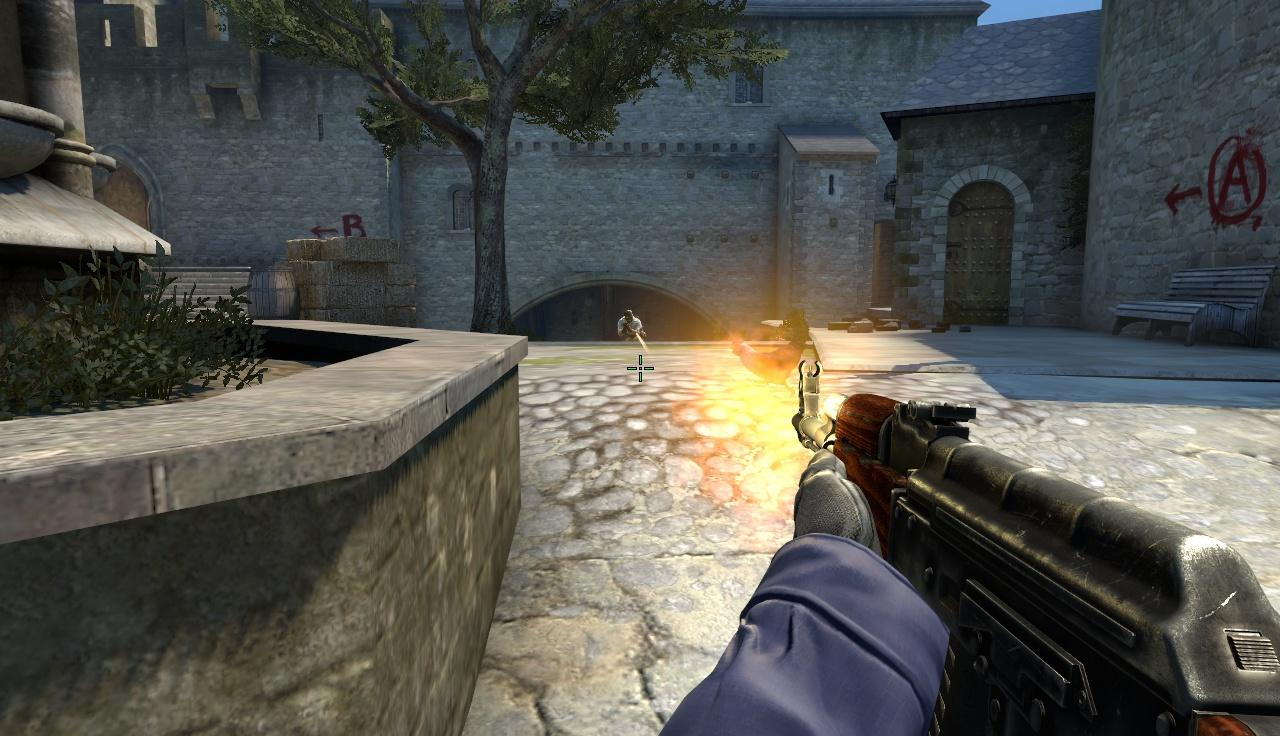rifle: (789, 356, 1280, 736)
tt: (619, 310, 643, 341)
tthead: (624, 310, 634, 322)
